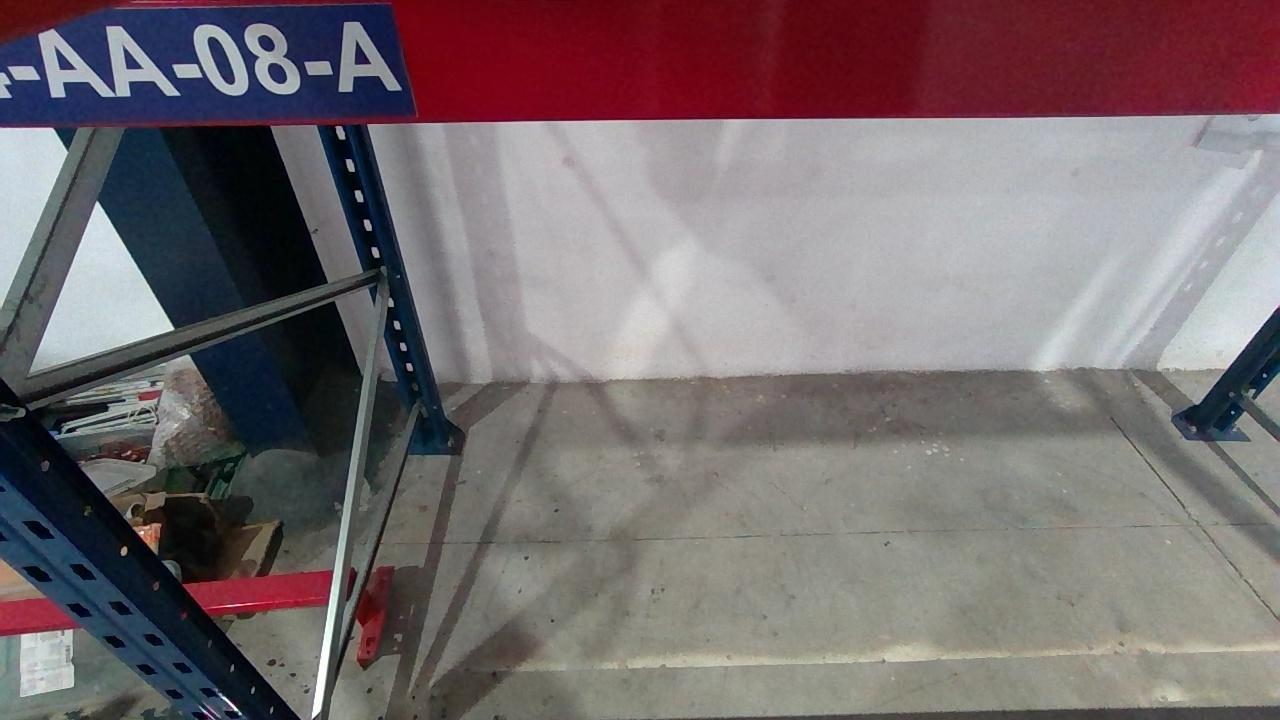h_rack: (0, 0, 1279, 128)
